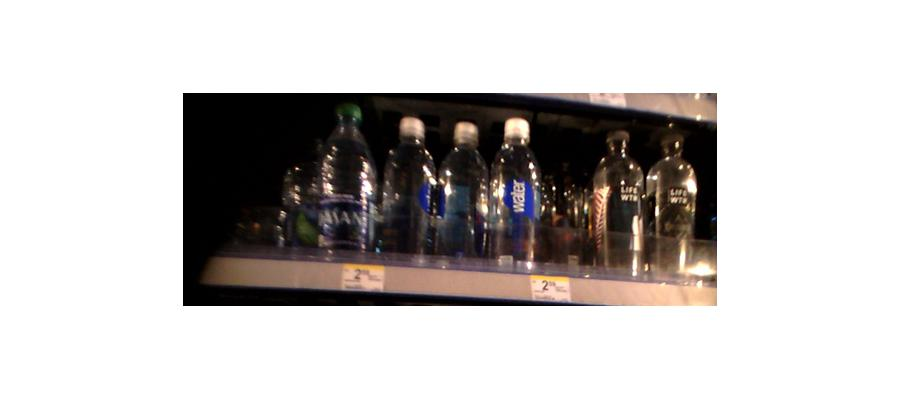bottle: (313, 98, 376, 262), (487, 117, 546, 277), (378, 117, 439, 261), (589, 128, 648, 276), (435, 123, 489, 266), (648, 128, 698, 276), (277, 124, 314, 251), (552, 154, 588, 269)
